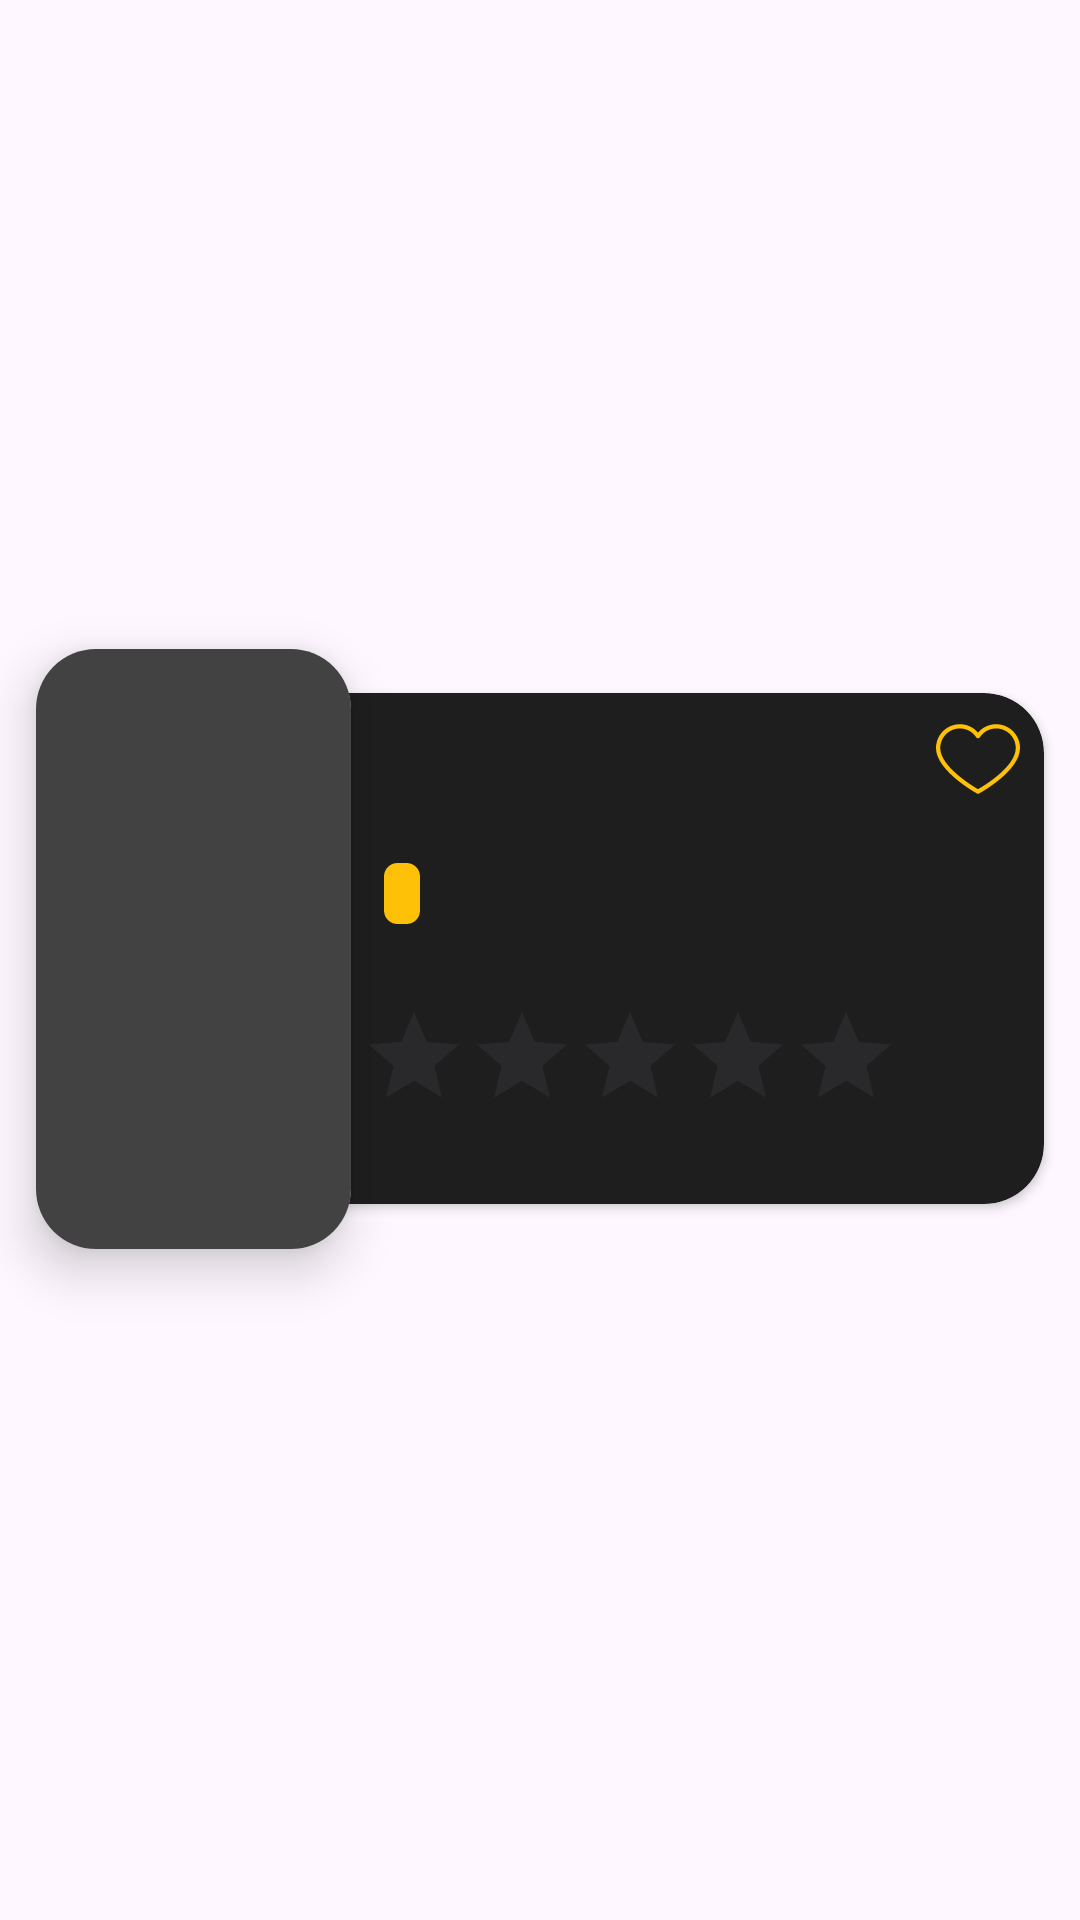

Icons on this 1080*1920 Android screen, each with its box as (x1, y1, x2, y2):
empty heart: (936, 724, 1020, 794)
